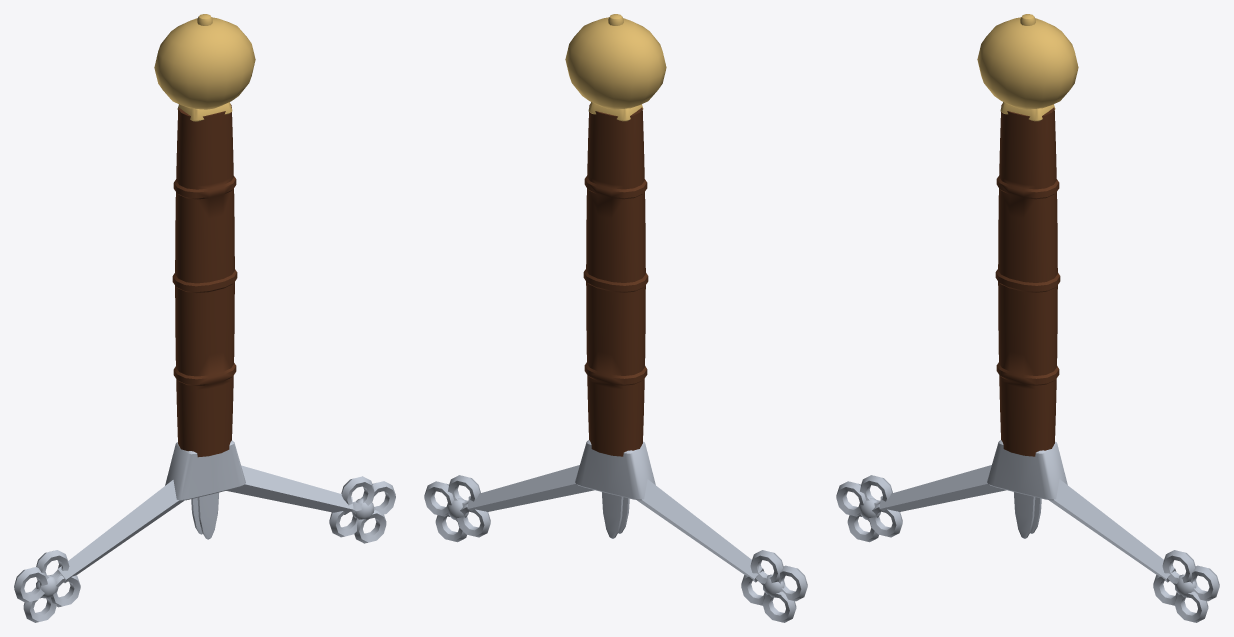
File: ClaymoreHiltGame.fbx
3 views of the same model, side by side, from view 1: azimuth 30°, elevation 25°; view 2: azimuth 150°, elevation 25°; view 3: azimuth 330°, elevation 25° (orthographic).
Visible parts, largest first — view 1: Grip, Guard, Pommel; view 2: Grip, Guard, Pommel; view 3: Grip, Guard, Pommel.
Part boxes in pixels (x1=…): Grip: x1=172, y1=104, x2=237, y2=457; Guard: x1=14, y1=440, x2=395, y2=622; Pommel: x1=154, y1=14, x2=255, y2=121; Grip: x1=583, y1=104, x2=648, y2=456; Guard: x1=424, y1=440, x2=807, y2=622; Pommel: x1=565, y1=14, x2=666, y2=121; Grip: x1=995, y1=104, x2=1060, y2=456; Guard: x1=836, y1=440, x2=1219, y2=622; Pommel: x1=977, y1=14, x2=1078, y2=121.
Bounding box in the file's own units: 1.8 × 2.55 × 0.36.
